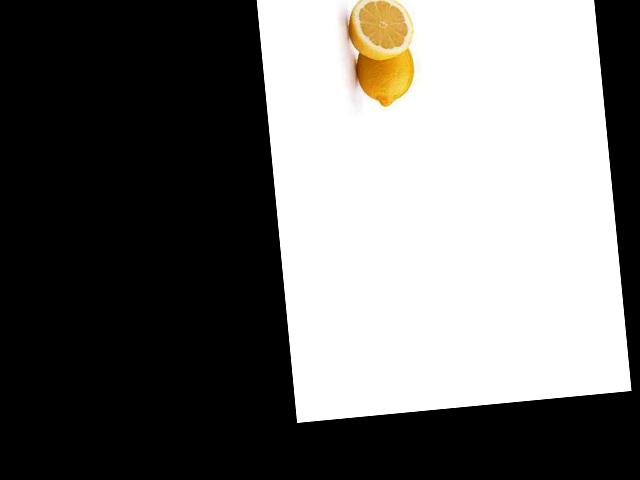lemon: (344, 35, 422, 110)
